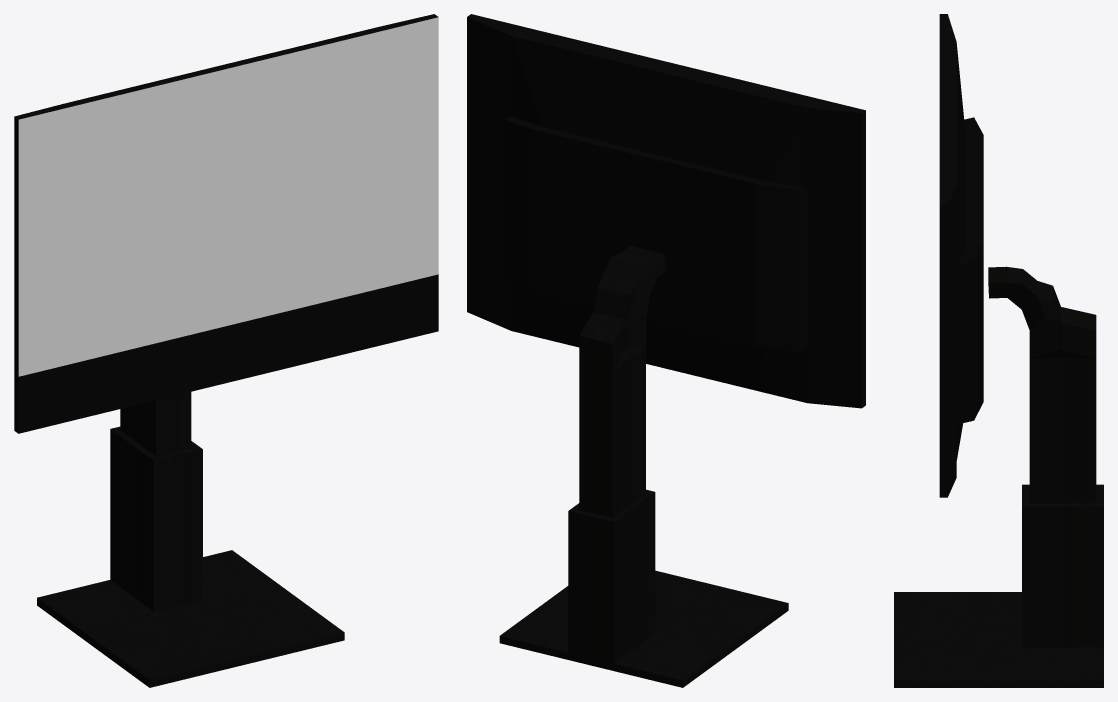
The model's file is computer_screen1.fbx.
3 renders of one model, left to right at view 1: azimuth 30°, elevation 25°; view 2: azimuth 150°, elevation 25°; view 3: azimuth 270°, elevation 25°, orthographic. The views are drawn at different scales.
Parts seen in each view (by area): view 1: Cube.024, Cube.025; view 2: Cube.024, Cube.025; view 3: Cube.025, Cube.024.
Boxes of the visible parts, <box> form: Cube.024: <box>14,14,438,433</box>; Cube.025: <box>37,392,344,687</box>; Cube.024: <box>467,14,865,408</box>; Cube.025: <box>499,246,788,687</box>; Cube.025: <box>894,266,1103,687</box>; Cube.024: <box>939,14,983,497</box>.
Bounding box in the file's own units: 560 × 734 × 260.
3 materials, 1 textured.
